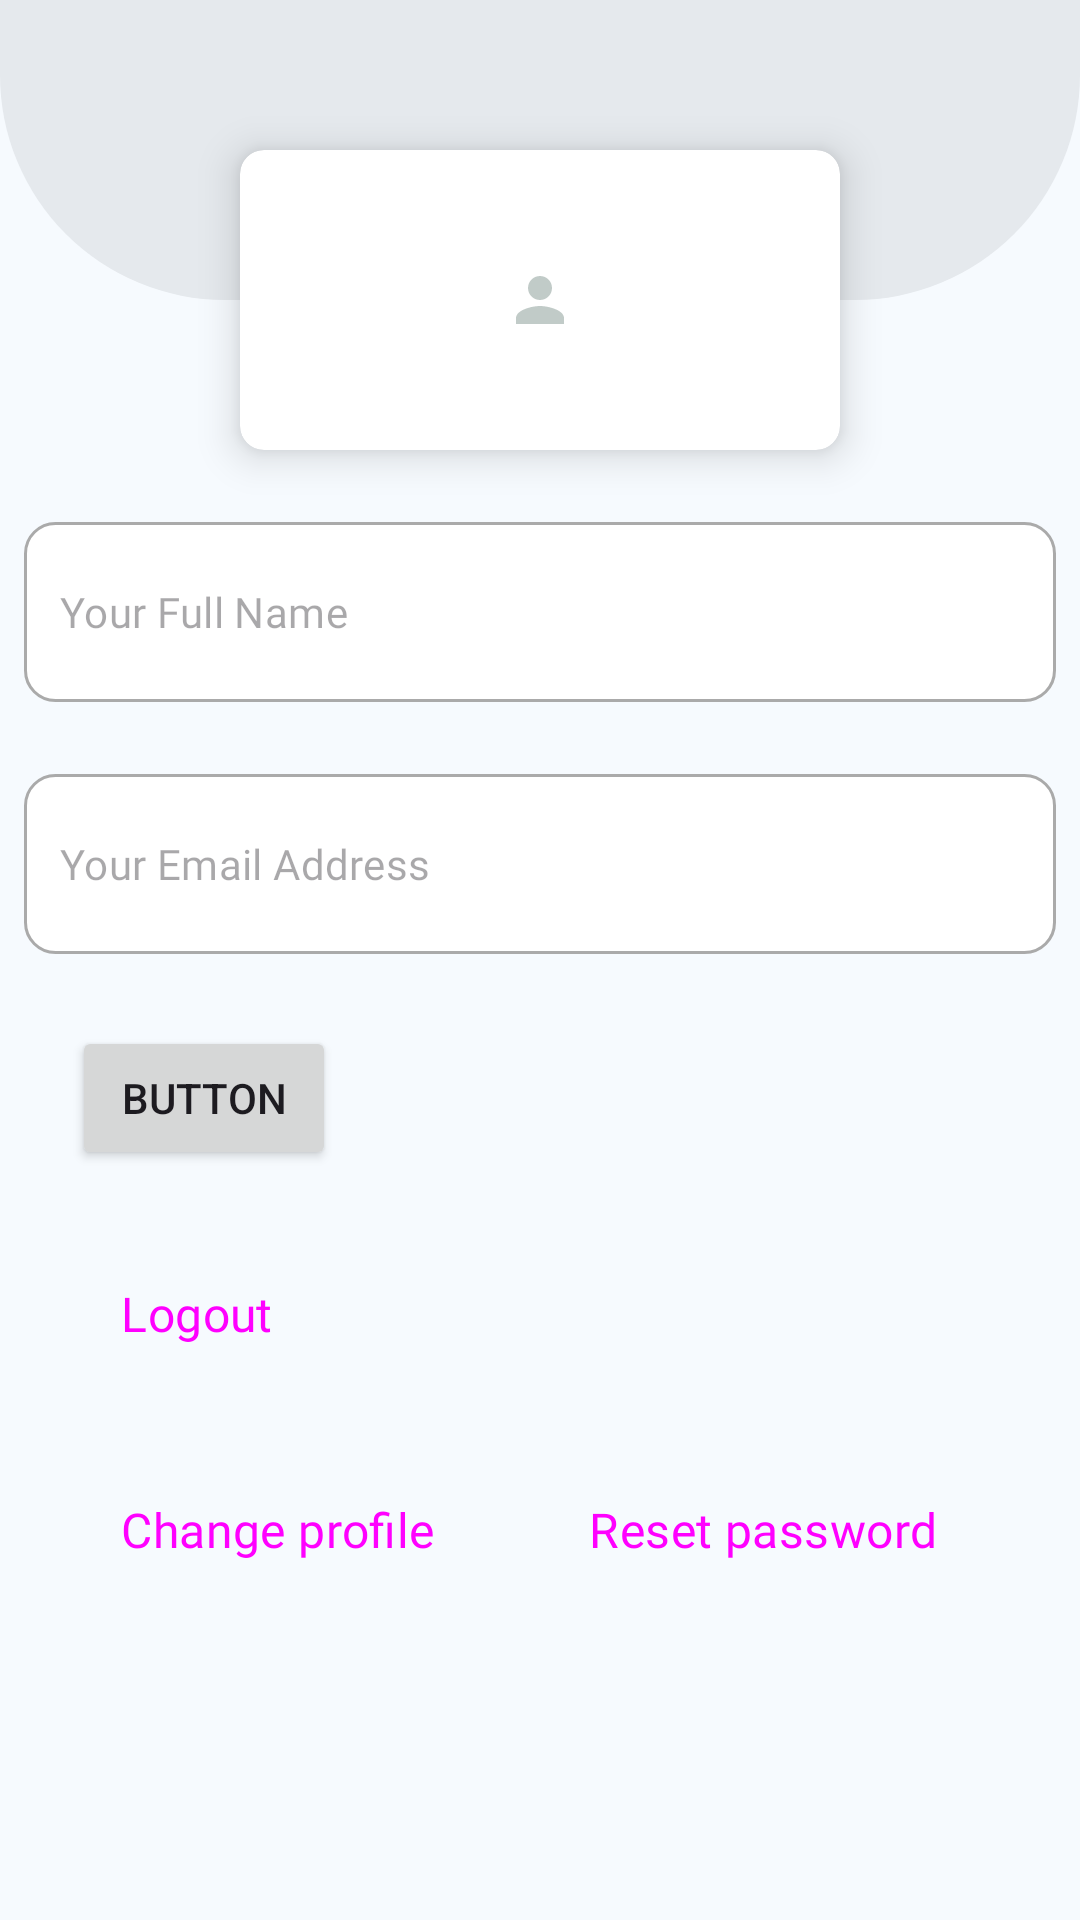

Point at icon controls on the screen. Image size 1080x1920, points as [x,y].
Profile picture: [540,300]
